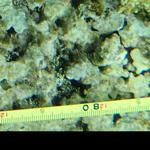dead: (4, 1, 148, 126)
